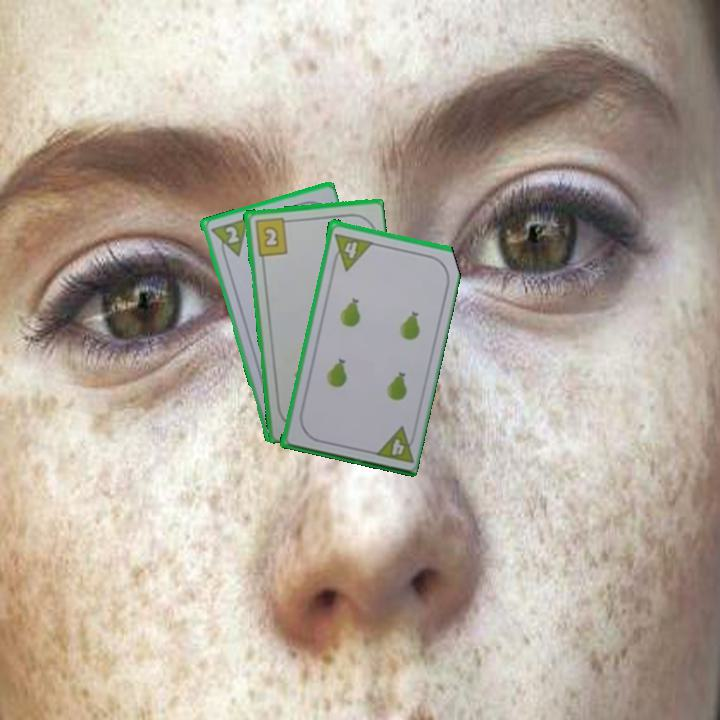2b: (251, 214, 293, 258)
2p: (206, 214, 250, 263)
4p: (340, 236, 374, 272), (388, 435, 407, 458)
